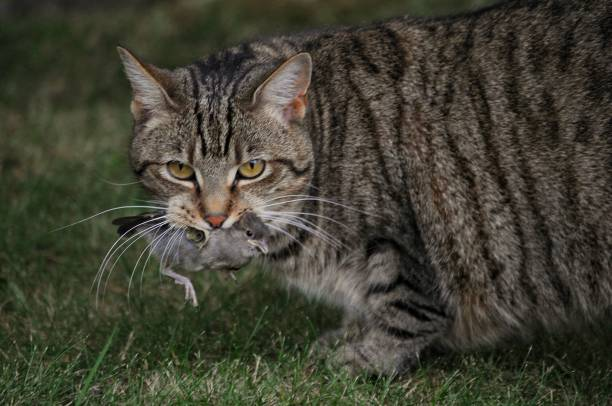Cat: (104, 27, 612, 381)
